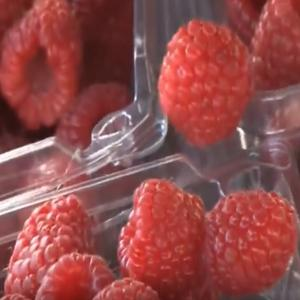raspb: (101, 177, 293, 300)
